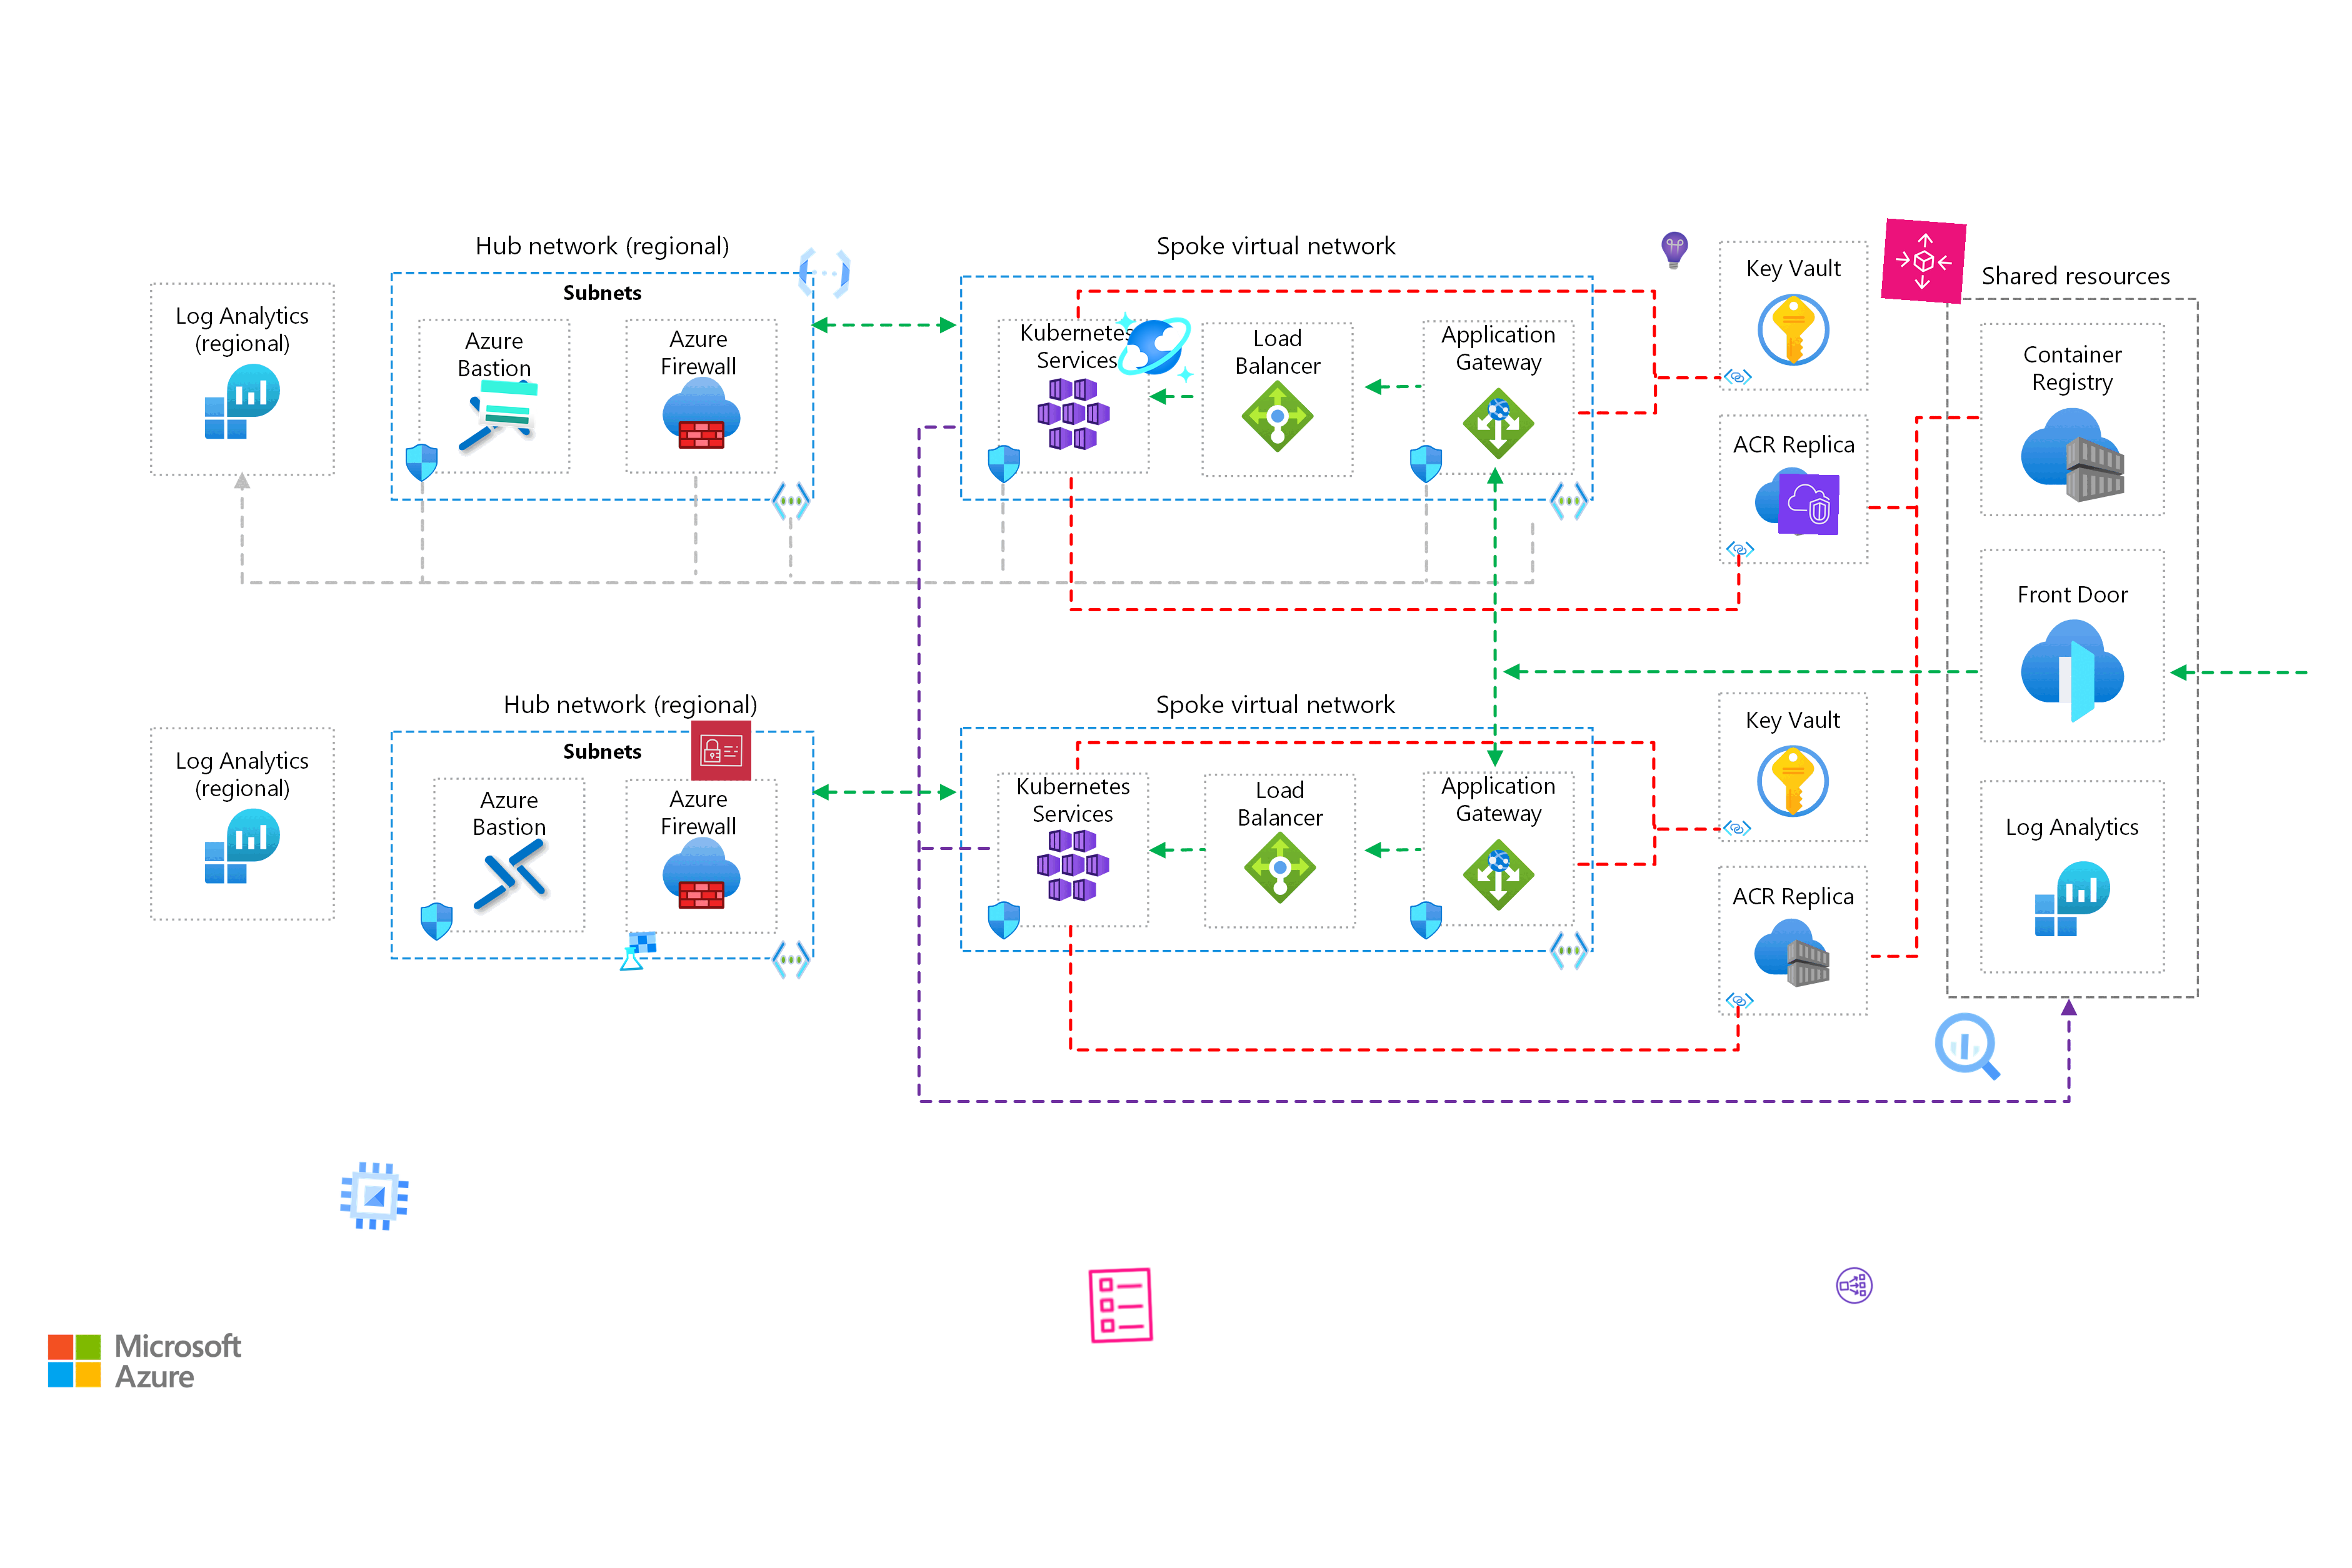aws_amazon_virtual_private_cloud: (1778, 472, 1839, 535)
aws_auto_scaling: (1881, 219, 1967, 304)
aws_cloudformation_template: (1078, 1263, 1162, 1347)
aws_elastic_load_balancing_network_load_balancer: (1834, 1263, 1876, 1307)
aws_identity_and_access_management: (691, 719, 752, 780)
azure_application_insights: (1654, 229, 1696, 271)
azure_cosmos_db: (1111, 304, 1197, 390)
azure_machine_learning_studio_workspaces: (616, 929, 658, 973)
azure_storage_accounts: (476, 371, 541, 437)
gcp_bigquery: (1927, 1004, 2011, 1088)
gcp_cloud_functions: (793, 240, 858, 306)
gcp_compute_engine: (333, 1153, 416, 1239)
